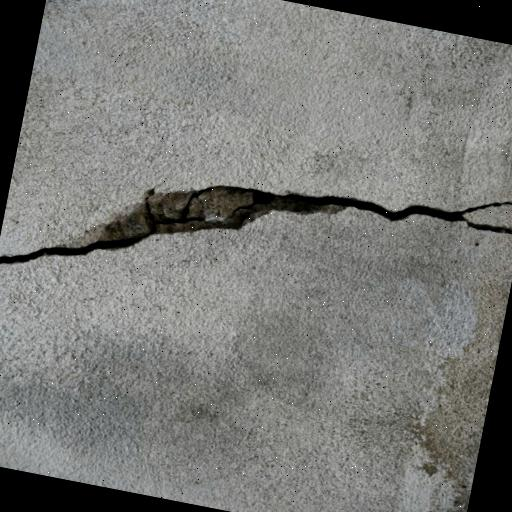spalling: (0, 178, 512, 270)
